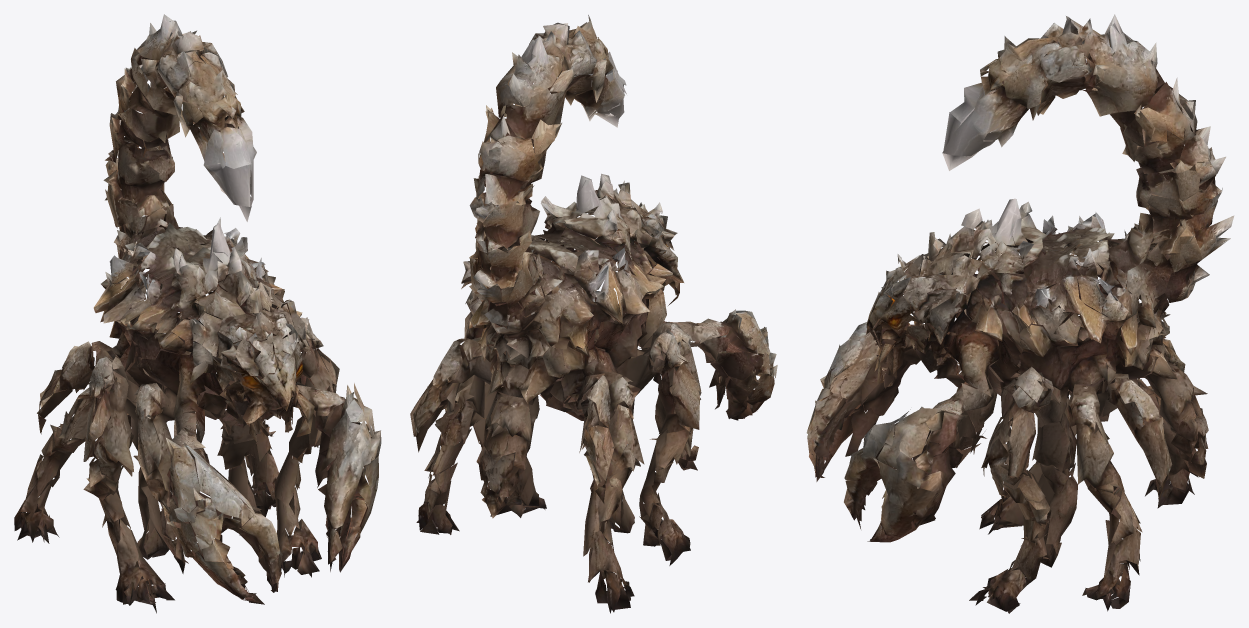
File: Scorpion.fbx
The picture shows the model from 3 angles, left to right: view 1: azimuth 30°, elevation 25°; view 2: azimuth 150°, elevation 25°; view 3: azimuth 270°, elevation 25°; orthographic projection. The views are drawn at different scales.
Parts seen in each view (by area): view 1: Scorpion_Body; view 2: Scorpion_Body; view 3: Scorpion_Body.
Boxes of the visible parts, <box> form: Scorpion_Body: <box>14,14,381,613</box>; Scorpion_Body: <box>410,15,777,613</box>; Scorpion_Body: <box>806,14,1234,613</box>.
Bounding box in the file's own units: 0.4808 × 1 × 0.7017.
Materials: 1 (1 with a texture image).
